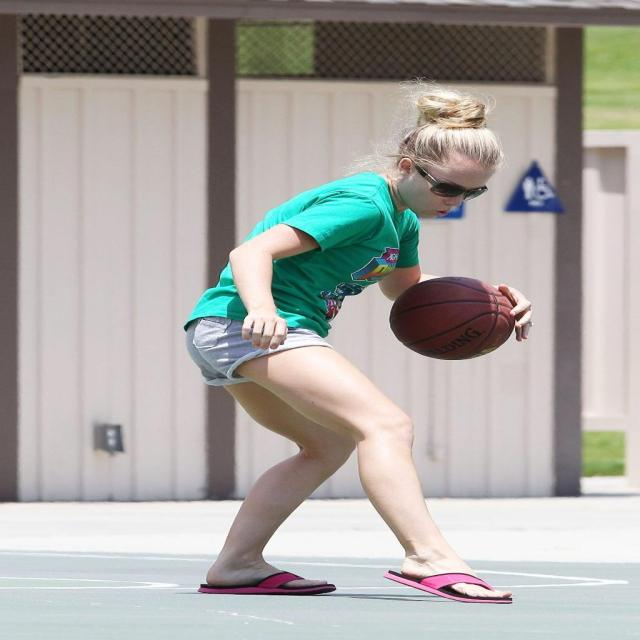Face: (393, 147, 494, 221)
